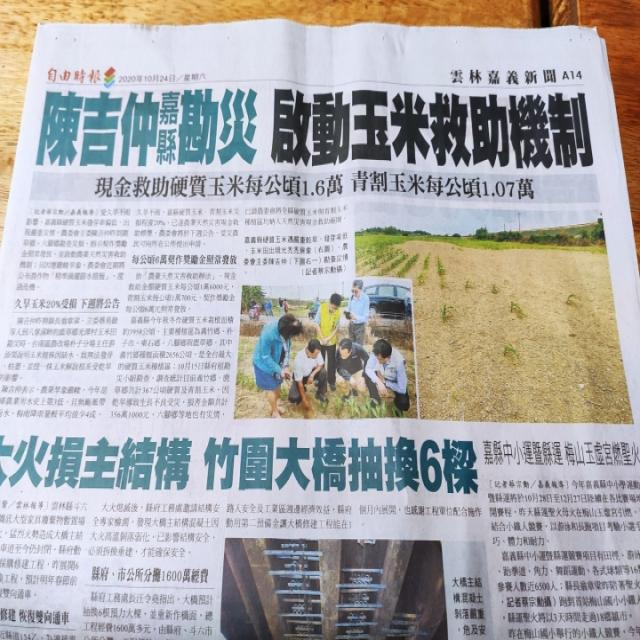newspaper: (2, 21, 640, 640)
